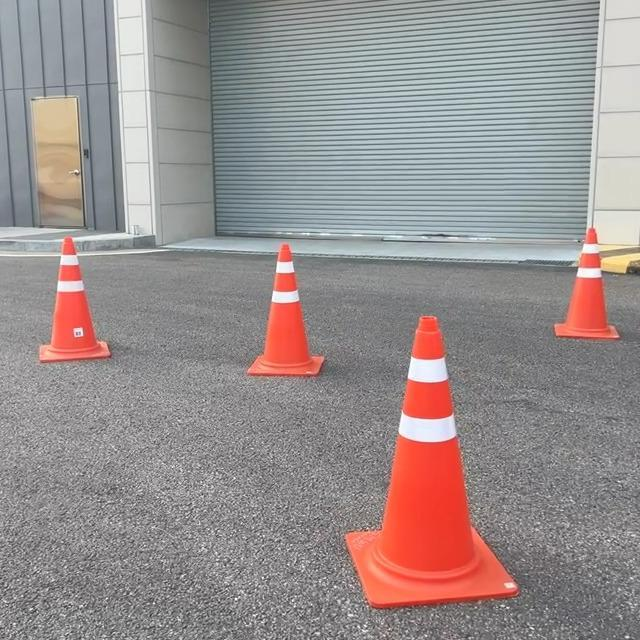fallen_object: (286, 297, 480, 625), (227, 193, 344, 412), (22, 219, 141, 421), (546, 215, 618, 337)
